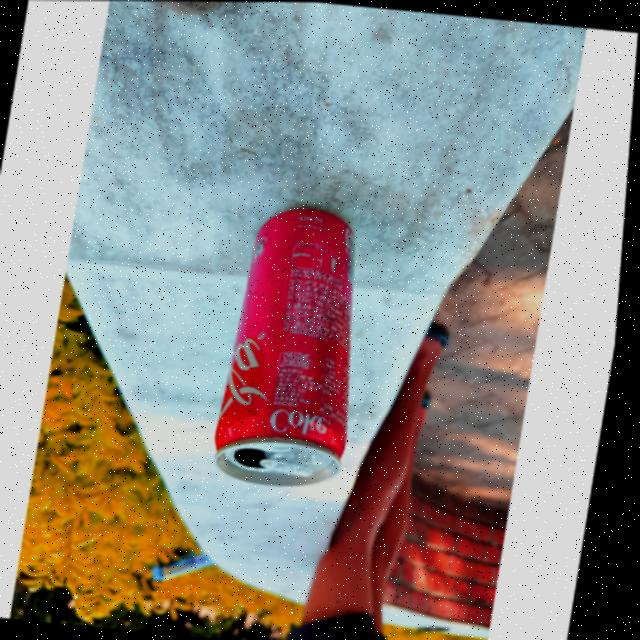Coca Cola: (204, 197, 388, 493)
